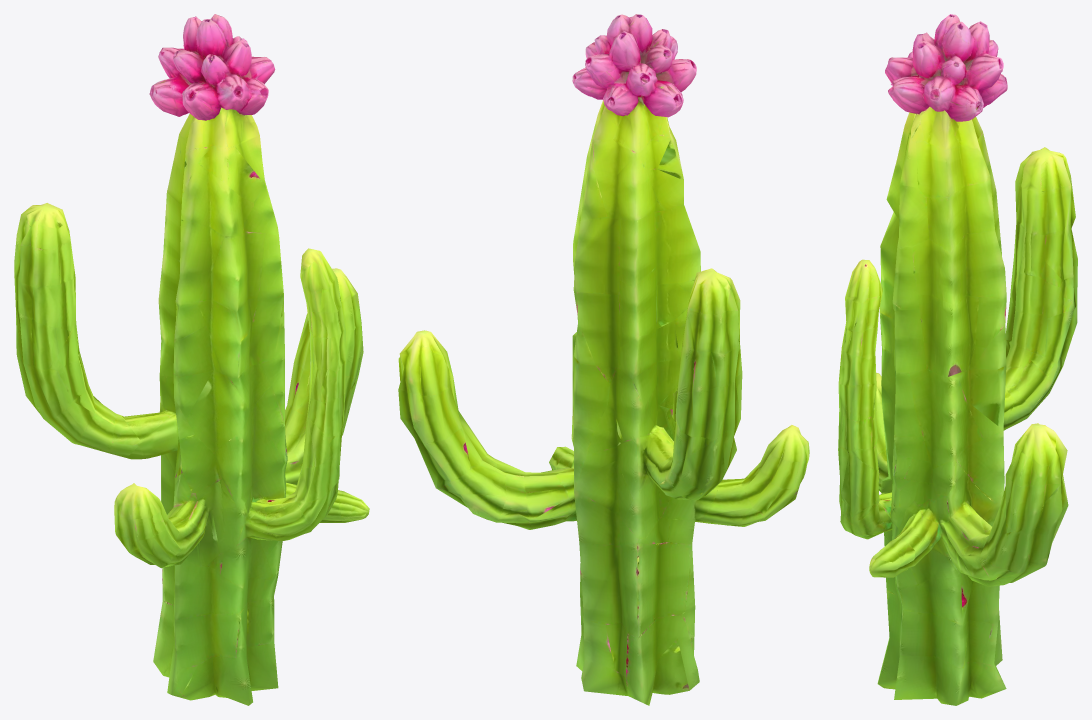
The model's file is cactus_saguaro.glb.
3 renders of one model, left to right at view 1: azimuth 30°, elevation 25°; view 2: azimuth 150°, elevation 25°; view 3: azimuth 270°, elevation 25°, orthographic.
Bounding box in the file's own units: 1.01 × 1.9 × 0.6173.
1 material, 1 textured.
